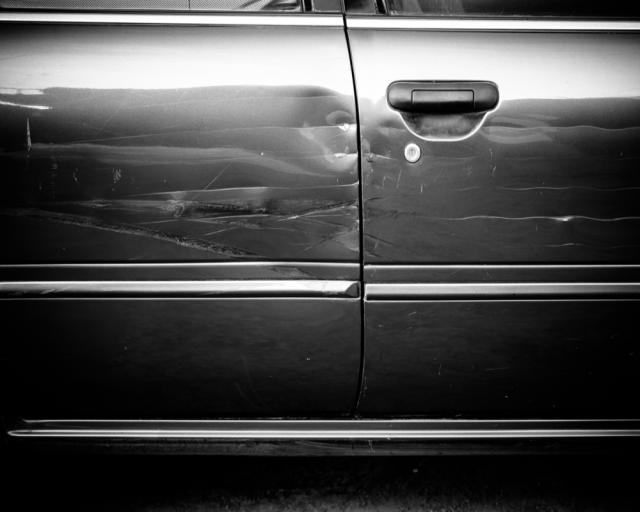dent: (289, 88, 357, 170), (366, 117, 403, 169), (483, 115, 548, 141)
scratch: (26, 116, 361, 279), (365, 174, 640, 265)
